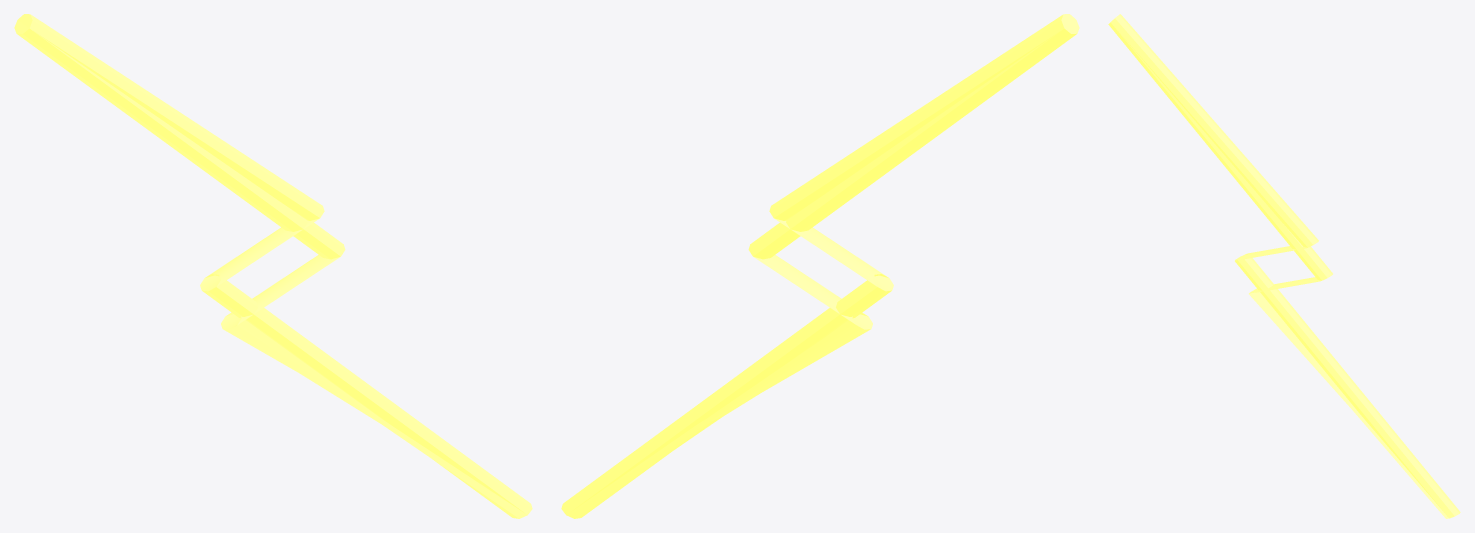
The model's file is arcade_neon_bolt.glb.
3 renders of one model, left to right at view 1: azimuth 30°, elevation 25°; view 2: azimuth 150°, elevation 25°; view 3: azimuth 330°, elevation 25°, orthographic. The views are drawn at different scales.
Visible parts, largest first — view 1: Bolt; view 2: Bolt; view 3: Bolt.
Part boxes in pixels (x1,y1,x2,y2): Bolt: (14, 14, 532, 518); Bolt: (561, 14, 1079, 518); Bolt: (1108, 14, 1460, 518).
Size of the model in its own units: 0.9915 by 1.14 by 0.04.
